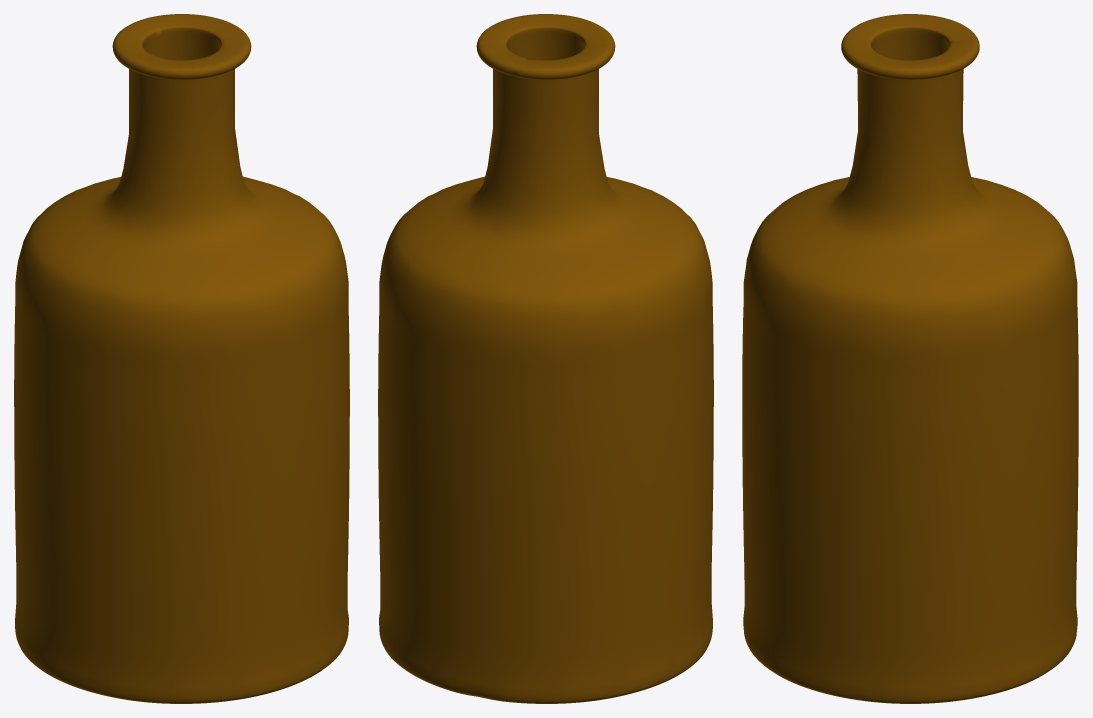
The model's file is bottle.fbx.
3 views of the same model, side by side, from view 1: azimuth 30°, elevation 25°; view 2: azimuth 150°, elevation 25°; view 3: azimuth 270°, elevation 25° (orthographic).
Parts seen in each view (by area): view 1: bottle_0001:nurbsToPoly1; view 2: bottle_0001:nurbsToPoly1; view 3: bottle_0001:nurbsToPoly1.
Boxes of the visible parts, x1=… form: bottle_0001:nurbsToPoly1: x1=14, y1=14, x2=349, y2=703; bottle_0001:nurbsToPoly1: x1=378, y1=14, x2=713, y2=703; bottle_0001:nurbsToPoly1: x1=742, y1=14, x2=1078, y2=703.
Bounding box in the file's own units: 11.81 × 23.19 × 11.81.
